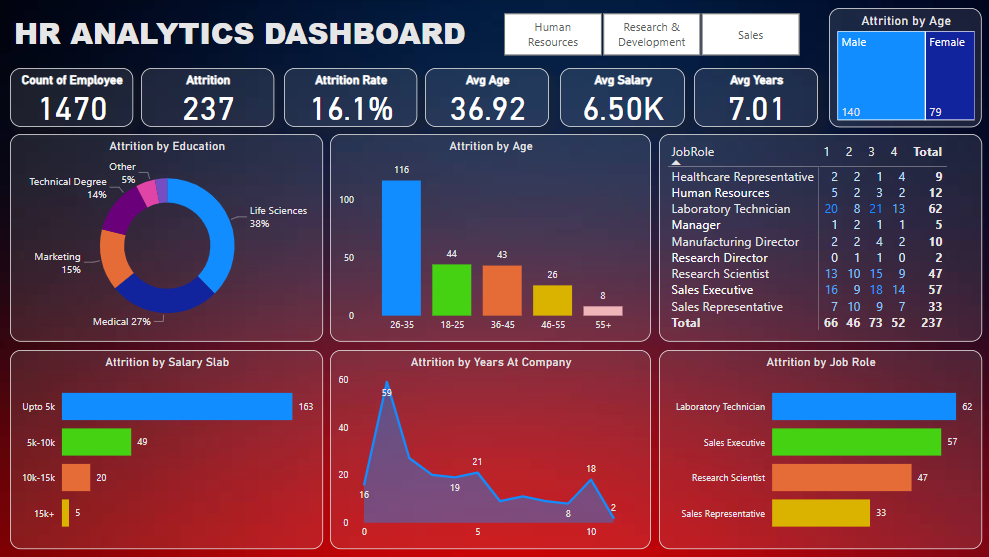

What the dashboard file says about the page in this screenshot:
{"tool":"powerbi","page":{"name":"Page 1","canvas":[1280,720],"ordinal":0},"visuals":[{"type":"card","title":"Count of Employee","fields":{"Values":["CountNonNull(HR_Analytics.EmpID)"]},"box":[14.2,89,158.7,76.1],"z":0},{"type":"card","title":"Attrition","fields":{"Values":["Sum(HR_Analytics.AttritionCount)"]},"box":[183.2,89,171.6,76.1],"z":1000},{"type":"card","title":"Attrition Rate","fields":{"Values":["HR_Analytics.AttritionRate"]},"box":[367.7,89,171.6,76.1],"z":2000},{"type":"card","title":"Avg Age","fields":{"Values":["Avg(HR_Analytics.Age)"]},"box":[549.7,89,160,76.1],"z":3000},{"type":"card","title":"Avg Salary","fields":{"Values":["Avg(HR_Analytics.MonthlyIncome)"]},"box":[723.9,89,161.3,76.1],"z":4000},{"type":"card","title":"Avg Years","fields":{"Values":["Avg(HR_Analytics.YearsAtCompany)"]},"box":[896.8,89,160,76.1],"z":5000},{"type":"donutChart","title":"Attrition by Education","fields":{"Category":["HR_Analytics.EducationField"],"Y":["Sum(HR_Analytics.AttritionCount)"]},"box":[14.2,174.2,403.9,268.4],"z":6000},{"type":"columnChart","title":"Attrition by Age","fields":{"Category":["HR_Analytics.AgeGroup"],"Y":["Sum(HR_Analytics.AttritionCount)"]},"box":[427.1,174.2,414.2,268.4],"z":7000},{"type":"pivotTable","fields":{"Rows":["HR_Analytics.JobRole"],"Columns":["HR_Analytics.JobSatisfaction"],"Values":["Sum(HR_Analytics.AttritionCount)"]},"box":[851.6,174.2,416.8,268.4],"z":8000},{"type":"barChart","title":"Attrition by Salary Slab","fields":{"Category":["HR_Analytics.SalarySlab"],"Y":["Sum(HR_Analytics.AttritionCount)"]},"box":[14.2,452.9,403.9,256.8],"z":9000},{"type":"barChart","title":"Attrition by Job Role","fields":{"Y":["Sum(HR_Analytics.AttritionCount)"],"Category":["HR_Analytics.JobRole"]},"box":[851.6,452.9,416.8,256.8],"z":10000},{"type":"areaChart","title":"Attrition by Years At Company","fields":{"Category":["HR_Analytics.YearsAtCompany"],"Y":["Sum(HR_Analytics.AttritionCount)"]},"box":[427.1,452.9,414.2,256.8],"z":11000},{"type":"treemap","title":"Attrition by Age","fields":{"Group":["HR_Analytics.Gender"],"Values":["Sum(HR_Analytics.AttritionCount)"]},"box":[1071,11.6,197.4,153.5],"z":12000},{"type":"slicer","fields":{"Values":["HR_Analytics.Department"]},"box":[625.8,11.6,431,68.4],"z":13000},{"type":"textbox","box":[14.2,11.6,611.6,77.4],"z":14000}]}

Visuals, with their boxes in screenshot pixels (x1, y1, x2, y2), scaled from the page's 1280x720 canvas onto the 989x557 screenshot:
"Count of Employee" card: crop(11, 69, 134, 128)
"Attrition" card: crop(142, 69, 274, 128)
"Attrition Rate" card: crop(284, 69, 417, 128)
"Avg Age" card: crop(425, 69, 548, 128)
"Avg Salary" card: crop(559, 69, 684, 128)
"Avg Years" card: crop(693, 69, 817, 128)
"Attrition by Education" donutChart: crop(11, 135, 323, 342)
"Attrition by Age" columnChart: crop(330, 135, 650, 342)
pivotTable - HR_Analytics.JobRole x HR_Analytics.JobSatisfaction: crop(658, 135, 980, 342)
"Attrition by Salary Slab" barChart: crop(11, 350, 323, 549)
"Attrition by Job Role" barChart: crop(658, 350, 980, 549)
"Attrition by Years At Company" areaChart: crop(330, 350, 650, 549)
"Attrition by Age" treemap: crop(828, 9, 980, 128)
slicer - HR_Analytics.Department: crop(484, 9, 817, 62)
textbox: crop(11, 9, 484, 69)
